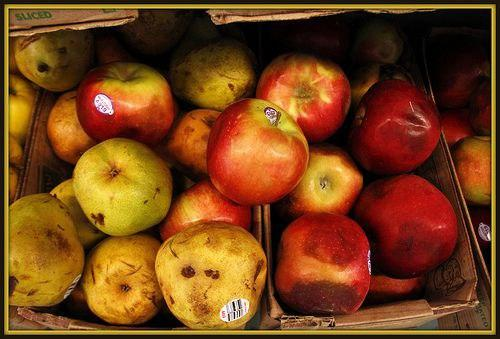Apple: (208, 102, 308, 205), (276, 213, 370, 312)
